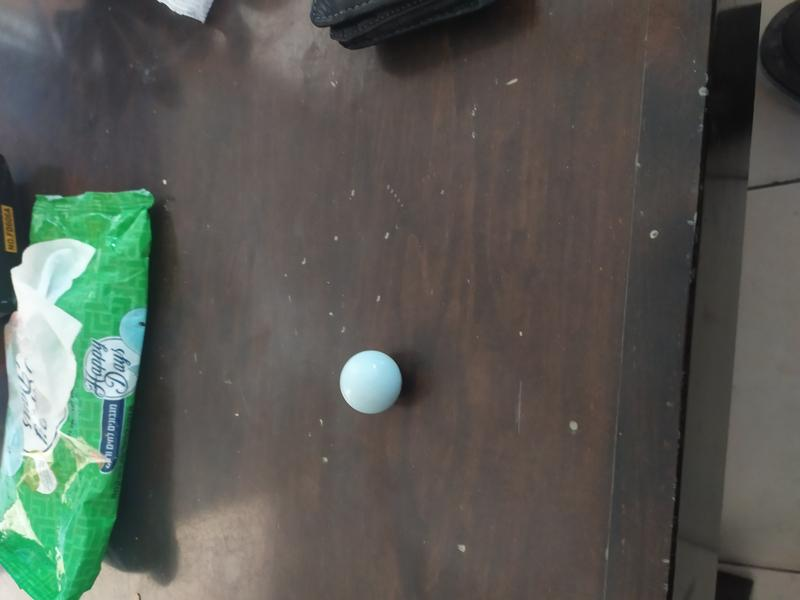Warning: (336, 347, 405, 418)
